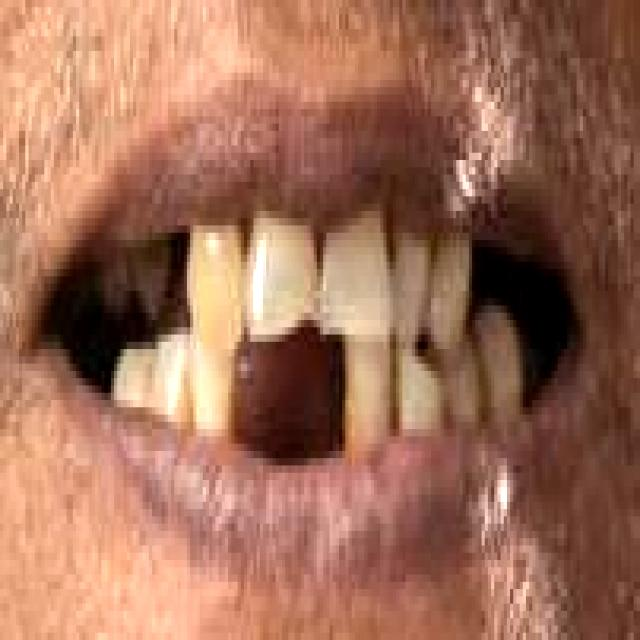hypodontia: (231, 326, 353, 486)
